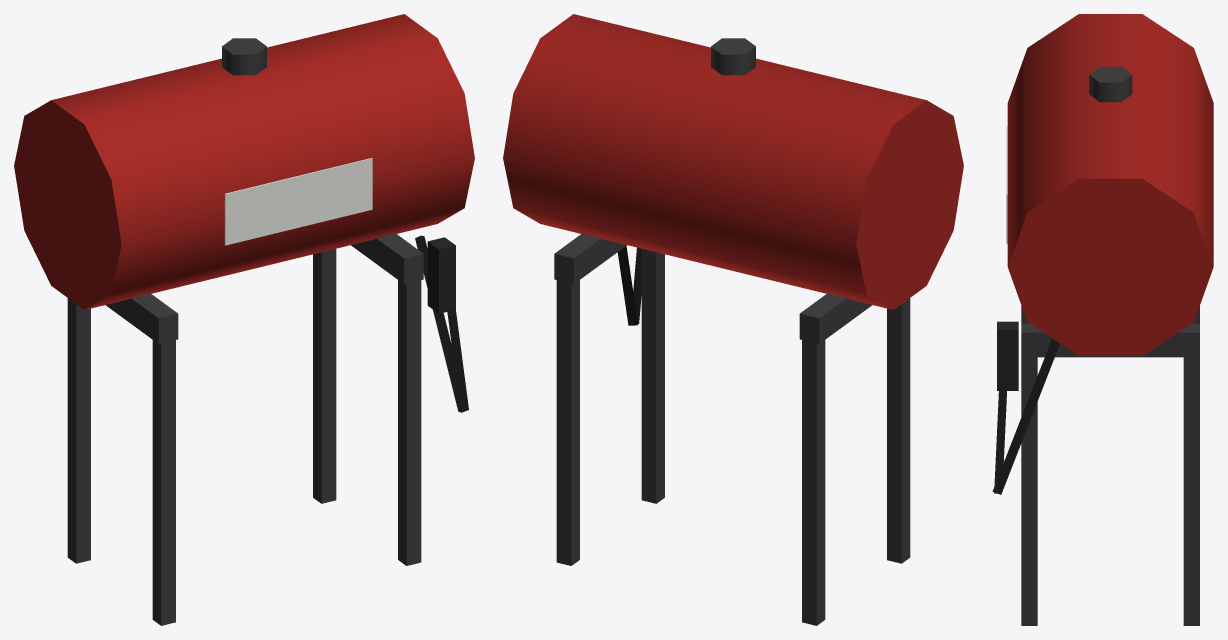
The model's file is fuel_tank_farm.glb.
3 views of the same model, side by side, from view 1: azimuth 30°, elevation 25°; view 2: azimuth 150°, elevation 25°; view 3: azimuth 270°, elevation 25° (orthographic). The views are drawn at different scales.
Parts seen in each view (by area): view 1: fuel_tank_farm; view 2: fuel_tank_farm; view 3: fuel_tank_farm.
Part boxes in pixels (x1,y1,x2,y2): fuel_tank_farm: [14, 14, 474, 625]; fuel_tank_farm: [503, 14, 963, 625]; fuel_tank_farm: [992, 14, 1213, 625].
Size of the model in its own units: 1.44 by 2 by 0.8168.
Materials: 1 (1 with a texture image).
